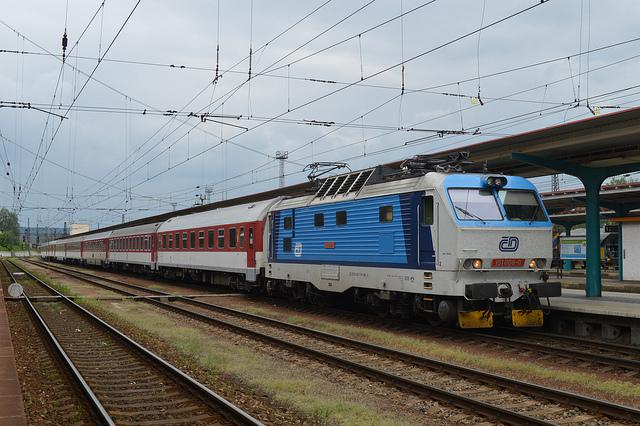Train: (39, 168, 552, 329)
